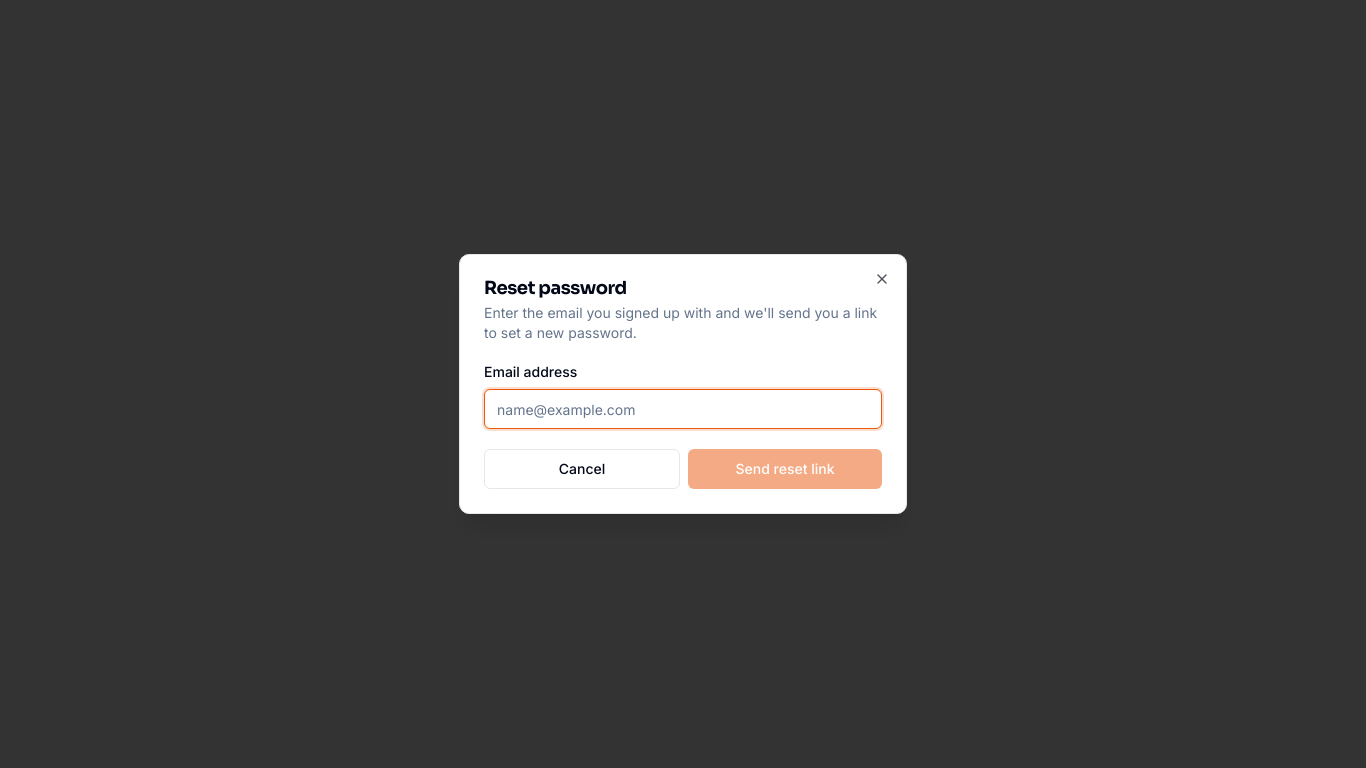
Scenario: ForgotPasswordModal › requests a reset email that redirects to the SPA's /reset-password page
In the field labelled "Email address": (683, 409) [484, 389, 882, 429], type "jane@x.com"
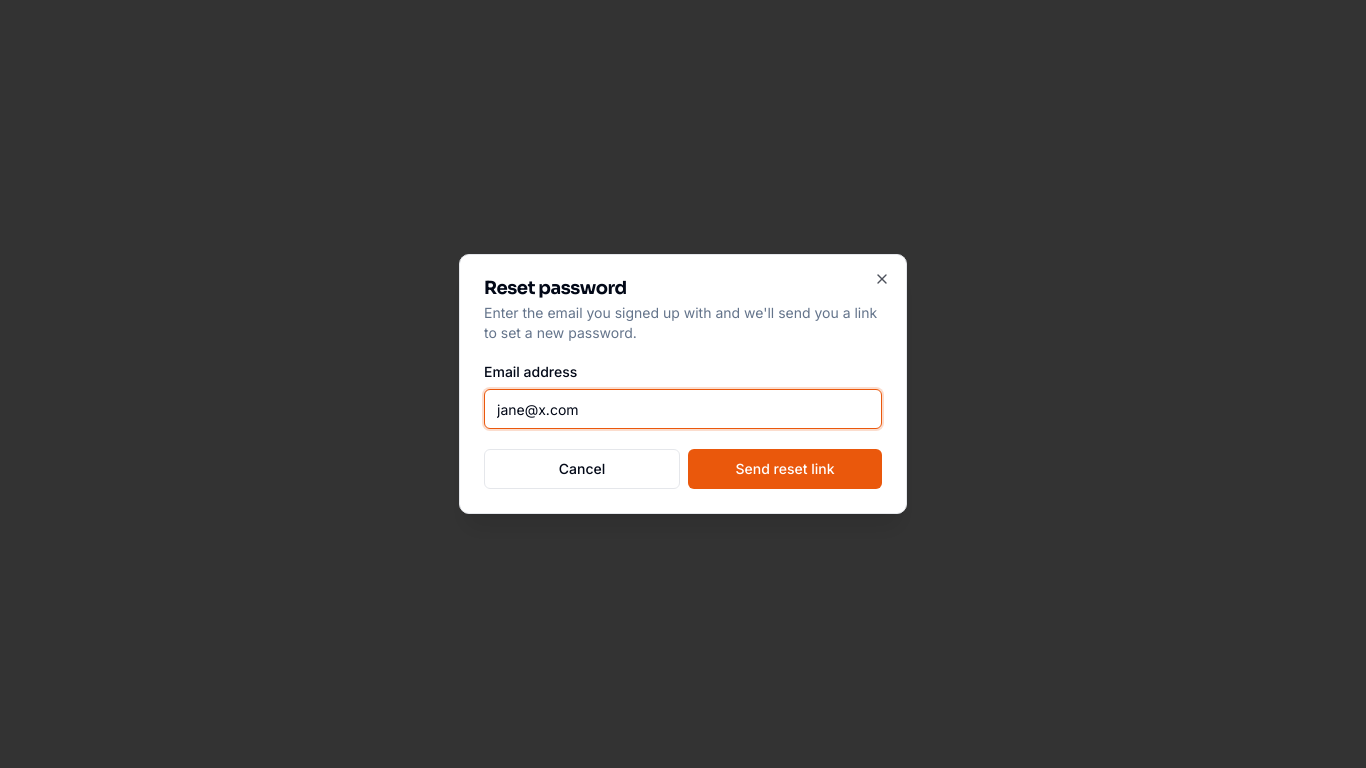
Click the button "Send reset link": (785, 469) [688, 449, 882, 489]
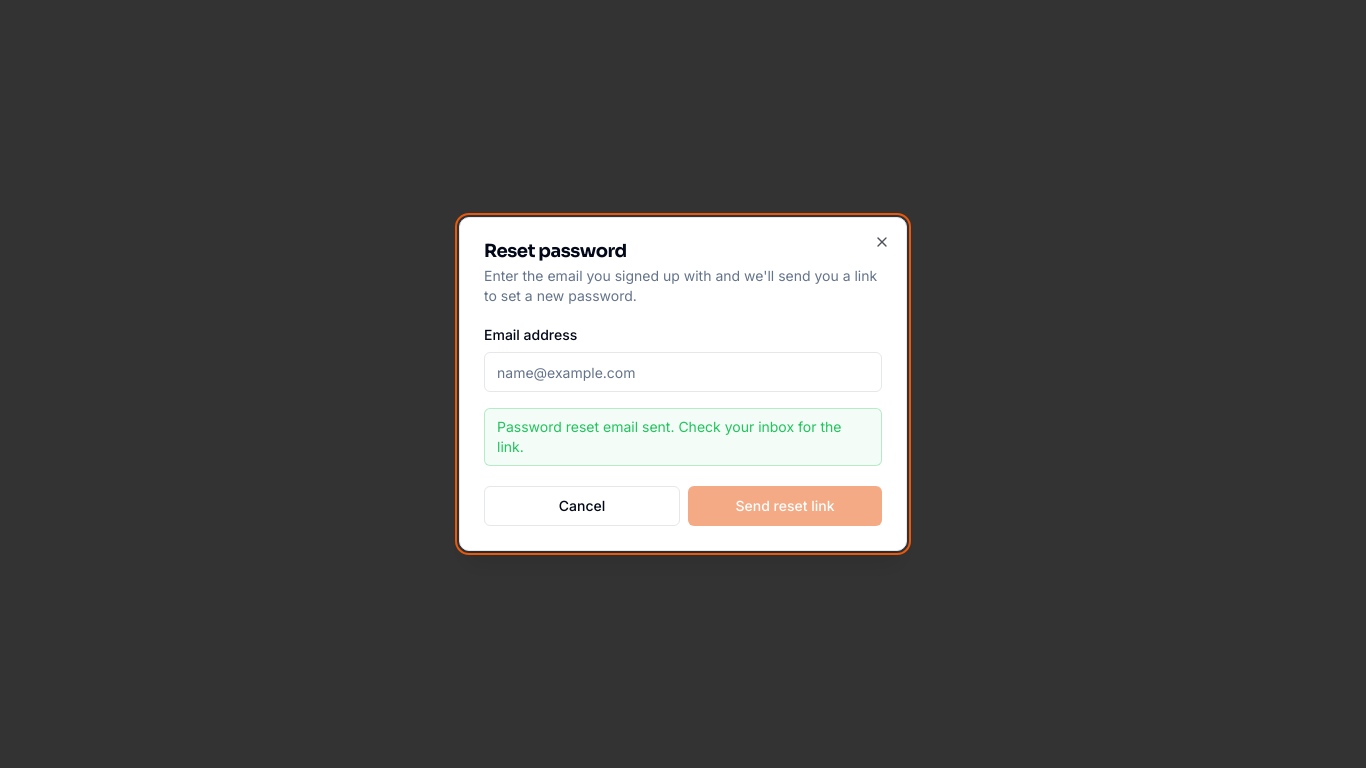
Expected: the text "Password reset email sent. Check your inbox for the link." is shown, [484, 408, 882, 466]
Expected: the field labelled "Email address" is empty, [484, 352, 882, 392]
